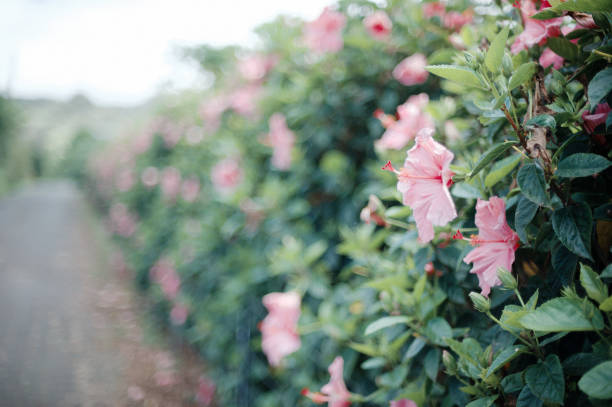Hibiscus: (367, 141, 467, 251), (455, 186, 518, 300), (253, 281, 300, 381), (288, 348, 355, 407)
